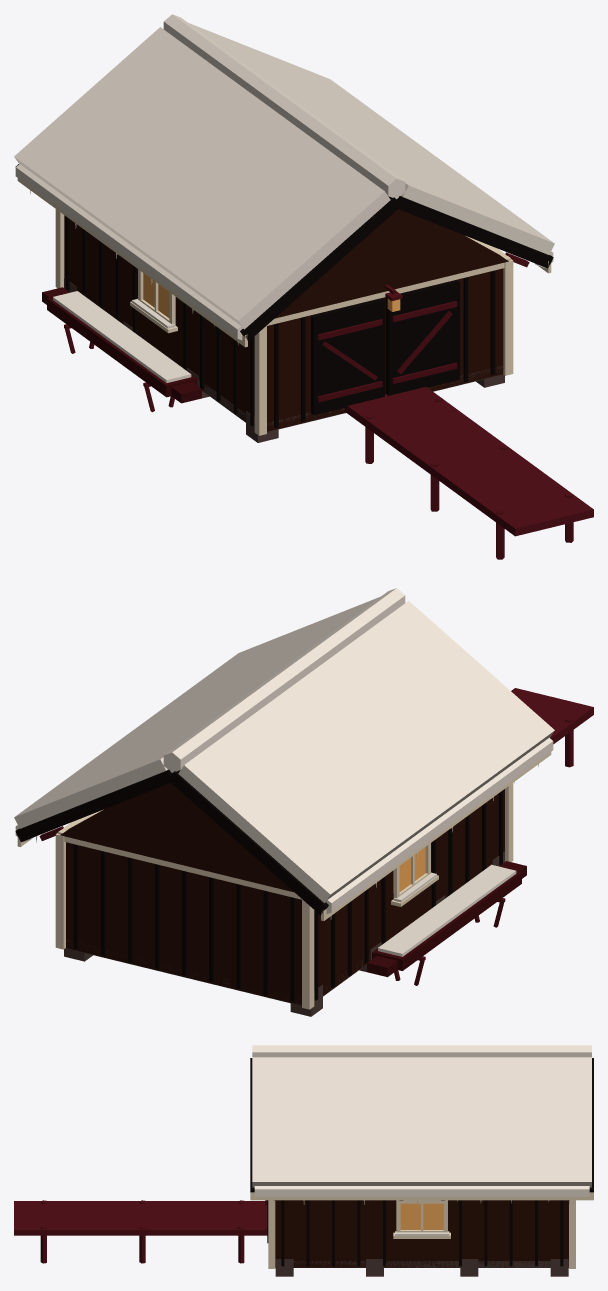
The model's file is rs_boathouse.glb.
3 views of the same model, one above another, from view 1: azimuth 30°, elevation 25°; view 2: azimuth 150°, elevation 25°; view 3: azimuth 270°, elevation 25° (orthographic). The views are drawn at different scales.
Visible parts, largest first — view 1: boathouse; view 2: boathouse; view 3: boathouse.
Boxes of the visible parts, x1,y1,x2,y2 form: boathouse: [14, 14, 593, 559]; boathouse: [14, 588, 593, 1016]; boathouse: [14, 1045, 593, 1276].
Size of the model in its own units: 6.86 by 5.24 by 13.5.
